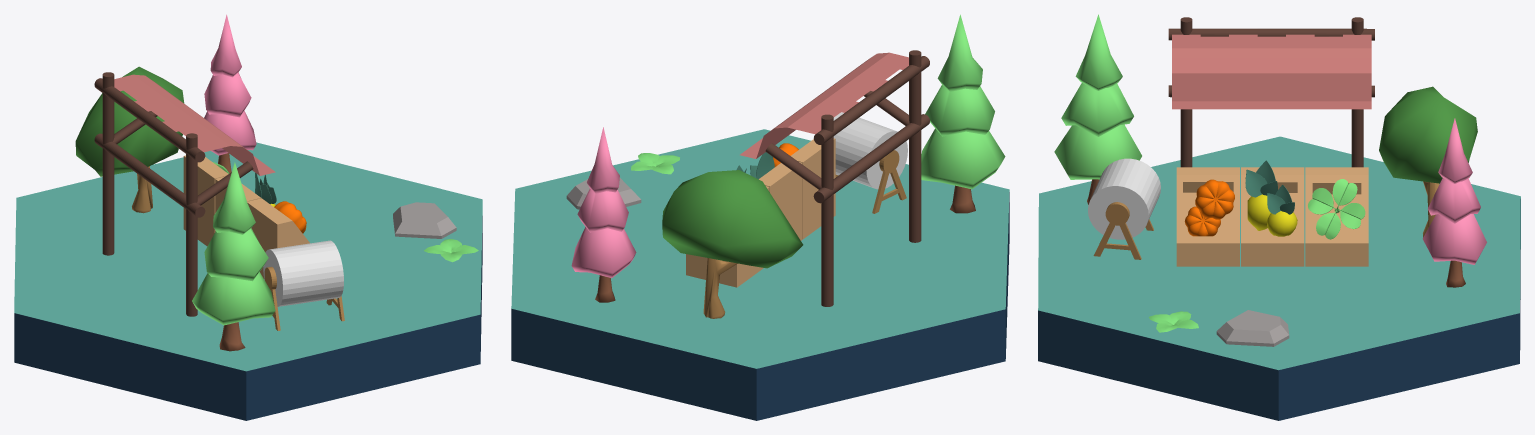
File: Macro - market lv1 wm2 yey.fbx
3 views of the same model, side by side, from view 1: azimuth 30°, elevation 25°; view 2: azimuth 150°, elevation 25°; view 3: azimuth 270°, elevation 25° (orthographic). The views are drawn at different scales.
Parts seen in each view (by area): view 1: Cylinder.154, Tree_Spruce_tiny_01.003, tree1 v:88 f:56, Cylinder, Tree_Spruce_tiny_01.008, Plane.112, Cylinder.039, Cylinder.038, Cube.140, Rock Type4 04 mesh.002, Cylinder.041, Cylinder.040 (+4 smaller); view 2: Cylinder.154, tree1 v:88 f:56, Tree_Spruce_tiny_01.003, Tree_Spruce_tiny_01.008, Plane.112, Cylinder, Cylinder.038, Cylinder.039, Cube.141, Cube.140, Cylinder.040, Cylinder.041 (+4 smaller); view 3: Cylinder.154, Plane.112, Tree_Spruce_tiny_01.003, tree1 v:88 f:56, Tree_Spruce_tiny_01.008, Cube.140, Cube.142, Cube.141, Cylinder, Rock Type4 04 mesh.002, Cylinder.040, Sphere.053 (+11 smaller).
Boxes of the visible parts, x1,y1,x2,y2 form: Cylinder.154: (14, 142, 482, 420); Tree_Spruce_tiny_01.003: (192, 162, 275, 351); tree1 v:88 f:56: (75, 66, 184, 213); Cylinder: (263, 240, 343, 306); Tree_Spruce_tiny_01.008: (204, 14, 256, 173); Plane.112: (114, 74, 275, 175); Cylinder.039: (102, 72, 114, 255); Cylinder.038: (186, 133, 197, 316); Cube.140: (247, 198, 309, 278); Rock Type4 04 mesh.002: (393, 202, 456, 238); Cylinder.041: (94, 133, 205, 217); Cylinder.040: (94, 78, 205, 162); Cylinder.154: (511, 129, 1009, 420); tree1 v:88 f:56: (662, 170, 803, 318); Tree_Spruce_tiny_01.003: (921, 14, 1005, 213); Tree_Spruce_tiny_01.008: (571, 127, 636, 302); Plane.112: (740, 52, 908, 158); Cylinder: (833, 112, 907, 189); Cylinder.038: (909, 50, 921, 242); Cylinder.039: (821, 114, 833, 306); Cube.141: (759, 162, 802, 240); Cube.140: (791, 138, 835, 238); Cylinder.040: (813, 56, 929, 144); Cylinder.041: (813, 114, 929, 203); Cylinder.154: (1038, 136, 1520, 420); Plane.112: (1172, 34, 1371, 109); Tree_Spruce_tiny_01.003: (1054, 14, 1141, 204); tree1 v:88 f:56: (1379, 86, 1477, 237); Tree_Spruce_tiny_01.008: (1422, 118, 1486, 287); Cube.140: (1176, 167, 1239, 266); Cube.142: (1305, 167, 1368, 266); Cube.141: (1241, 167, 1304, 266); Cylinder: (1088, 158, 1160, 239); Rock Type4 04 mesh.002: (1216, 310, 1289, 346); Cylinder.040: (1168, 28, 1374, 40); Sphere.053: (1195, 179, 1234, 219).
Size of the model in its own units: 197 by 94.23 by 172.
